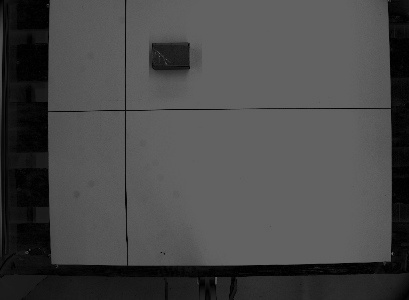b1: (148, 40, 194, 71)
